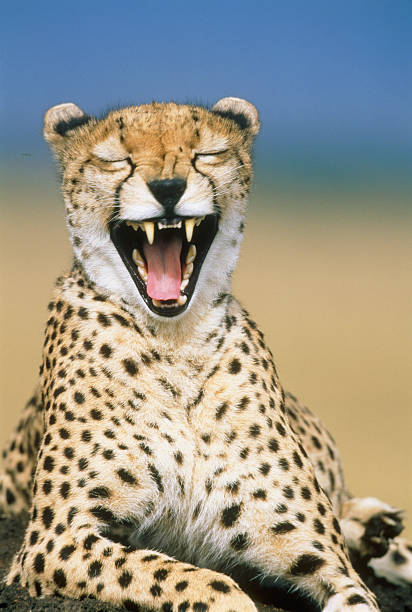cheetah: (28, 77, 285, 343)
